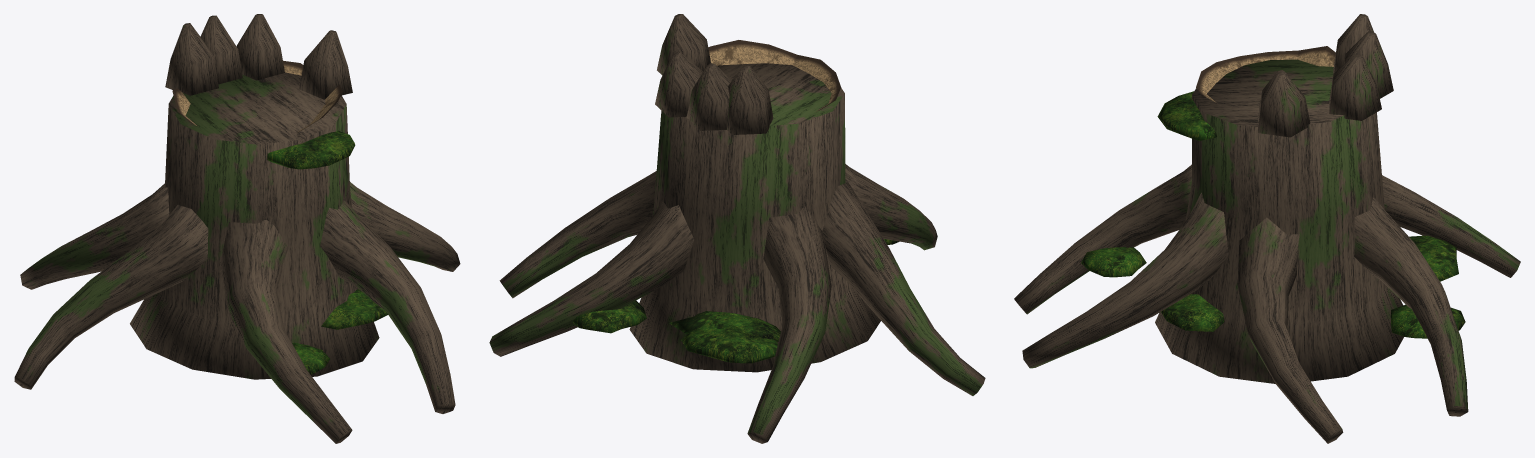
Rendered from Tree_Stump_B.glb.
3 renders of one model, left to right at view 1: azimuth 30°, elevation 25°; view 2: azimuth 150°, elevation 25°; view 3: azimuth 270°, elevation 25°, orthographic. The views are drawn at different scales.
Visible parts, largest first — view 1: Tree_Stump_B__Bark, Tree_Stump_B__Moss, Tree_Stump_B__Ends; view 2: Tree_Stump_B__Bark, Tree_Stump_B__Moss, Tree_Stump_B__Ends; view 3: Tree_Stump_B__Bark, Tree_Stump_B__Moss, Tree_Stump_B__Ends.
Boxes of the visible parts, bbox=[...] form: Tree_Stump_B__Bark: bbox=[14, 14, 460, 443]; Tree_Stump_B__Moss: bbox=[267, 130, 387, 374]; Tree_Stump_B__Ends: bbox=[172, 60, 342, 132]; Tree_Stump_B__Bark: bbox=[489, 14, 985, 443]; Tree_Stump_B__Moss: bbox=[573, 239, 899, 363]; Tree_Stump_B__Ends: bbox=[708, 40, 841, 111]; Tree_Stump_B__Bark: bbox=[1014, 14, 1520, 443]; Tree_Stump_B__Moss: bbox=[1081, 91, 1465, 338]; Tree_Stump_B__Ends: bbox=[1196, 46, 1335, 102].
Size of the model in its own units: 14.84 by 9.19 by 13.83.
3 materials, 3 textured.
